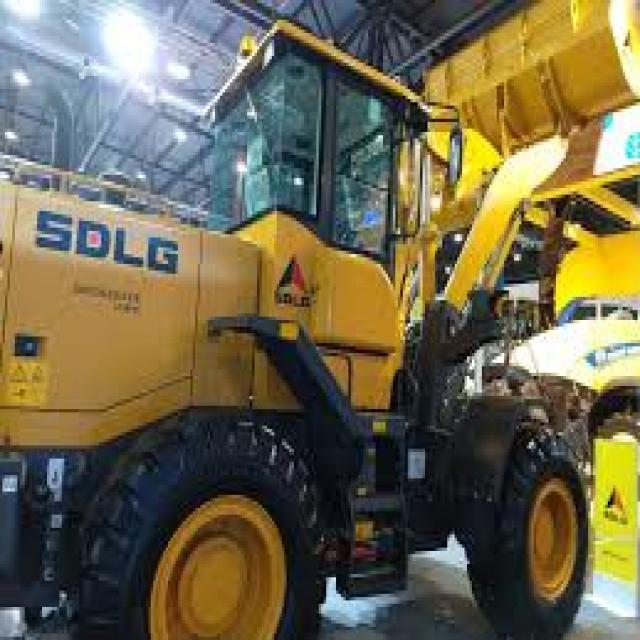buldozerpayloadergrader: (1, 12, 594, 640)
